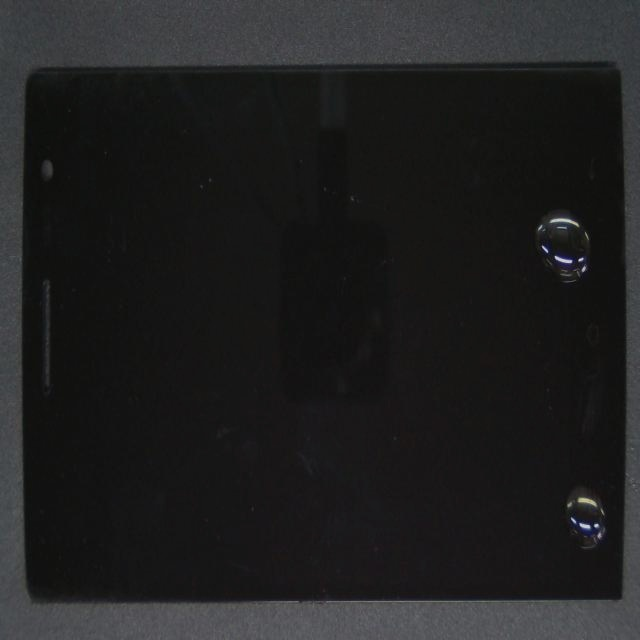oil: (314, 264, 640, 640), (317, 137, 640, 349)
